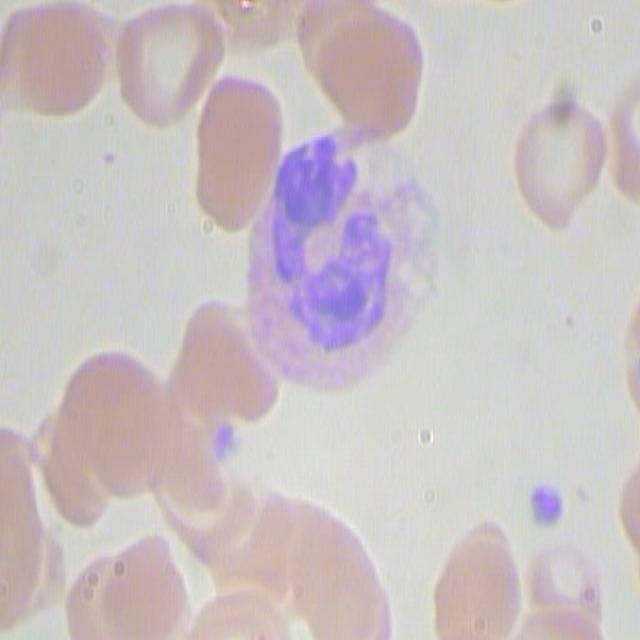RBC: (32, 342, 168, 596), (153, 297, 271, 561), (196, 488, 401, 638), (304, 0, 427, 151), (186, 68, 278, 234), (104, 1, 217, 130), (2, 0, 115, 123), (508, 90, 607, 228), (67, 534, 192, 638), (431, 518, 522, 638), (202, 0, 300, 57)
WBC: (245, 126, 400, 405)
platelets: (203, 414, 248, 483), (522, 474, 565, 536)
